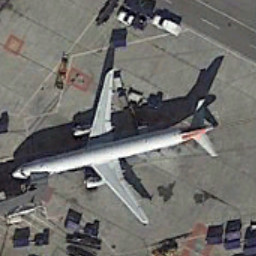Airplane: (6, 65, 229, 228)
